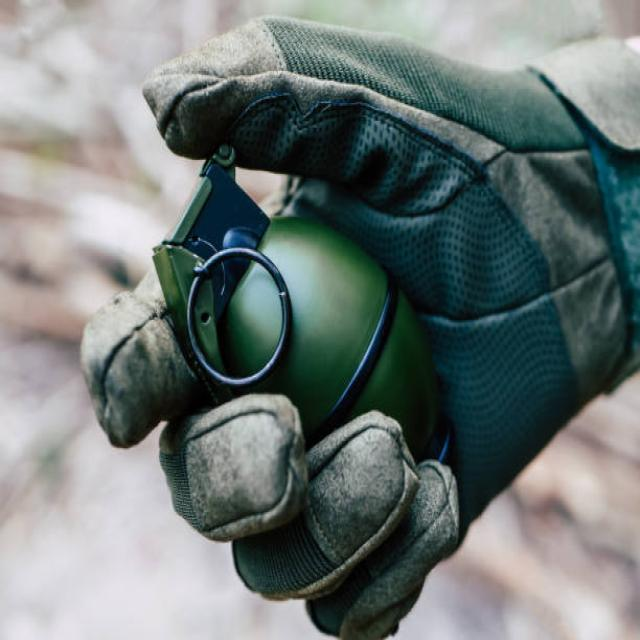grenade: (154, 142, 464, 485)
